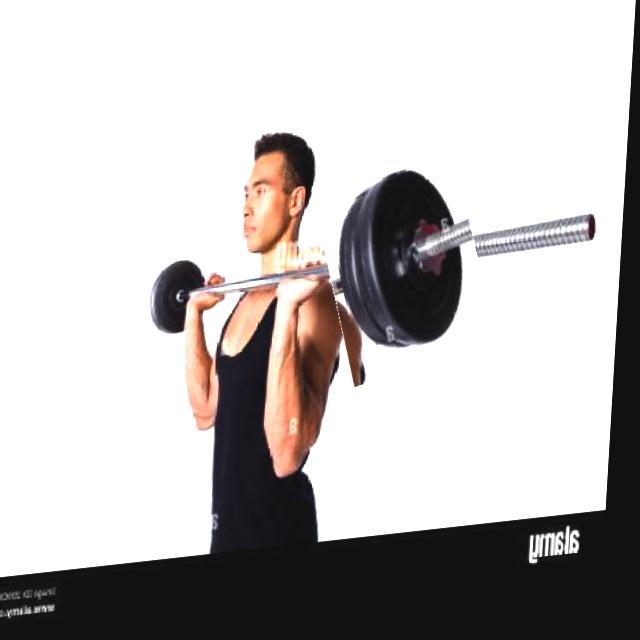barbell: (319, 152, 497, 394)
